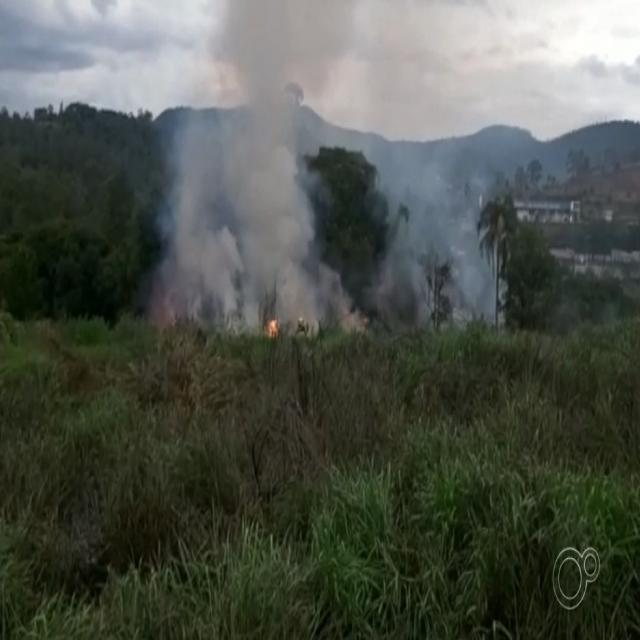Fire: (264, 314, 284, 341)
Smoke: (144, 22, 486, 303)
